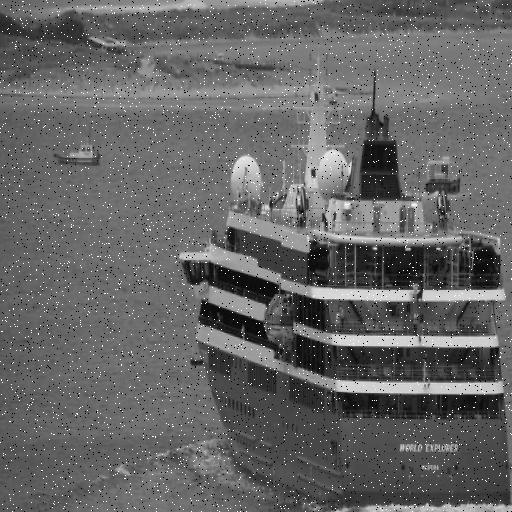cruises: (177, 82, 512, 512)
